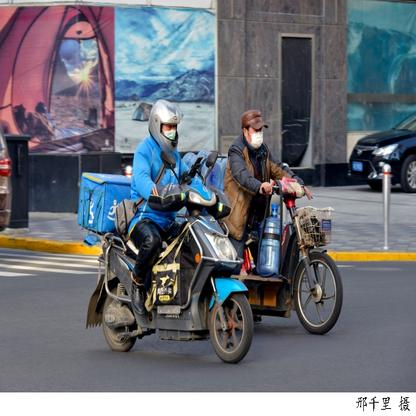target: (76, 99, 254, 363), (220, 109, 344, 337)
